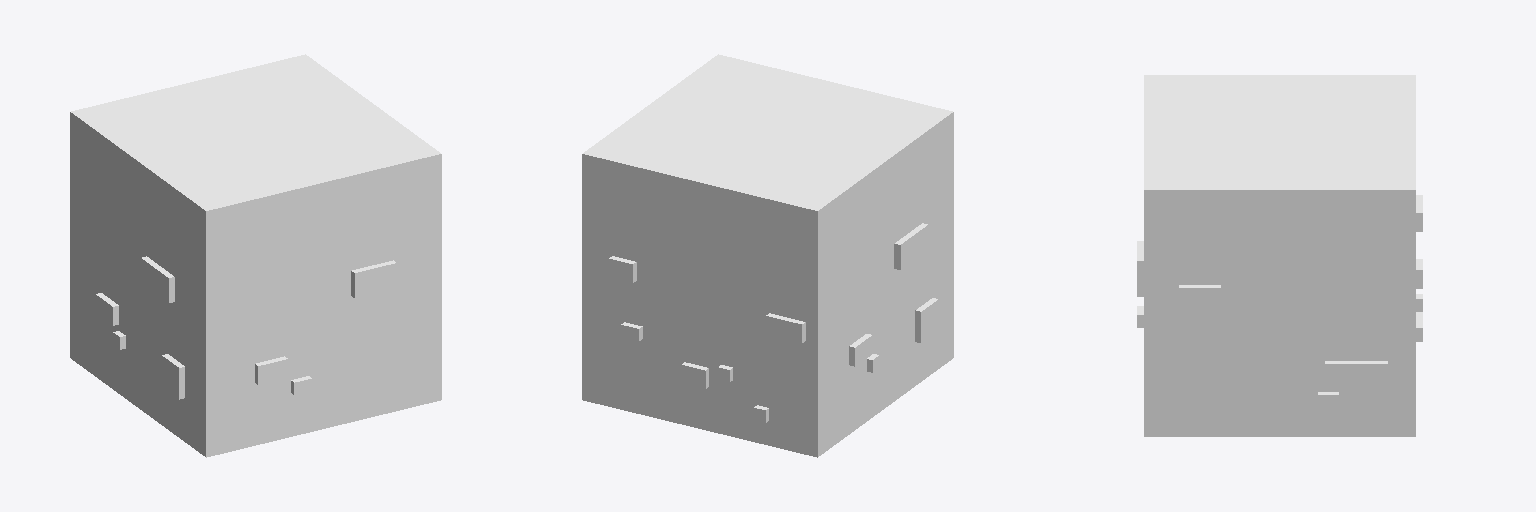
The model's file is grass_block_2.obj.
3 views of the same model, side by side, from view 1: azimuth 30°, elevation 25°; view 2: azimuth 150°, elevation 25°; view 3: azimuth 270°, elevation 25° (orthographic).
Visible parts, largest first — view 1: object 1; view 2: object 1; view 3: object 1.
Part boxes in pixels (left/top/right/bottom): object 1: left=70, top=54, right=441, bottom=457; object 1: left=582, top=54, right=953, bottom=457; object 1: left=1137, top=75, right=1422, bottom=436.
Size of the model in its own units: 4.1 by 3.9 by 4.1.